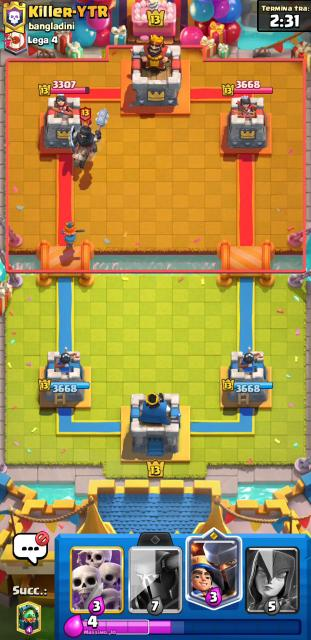ally_melee: (61, 222, 76, 248)
enemy_melee: (70, 108, 108, 169)
